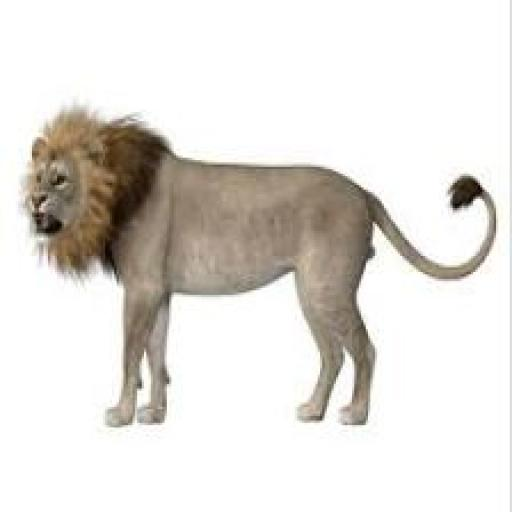lion: (32, 135, 473, 426)
